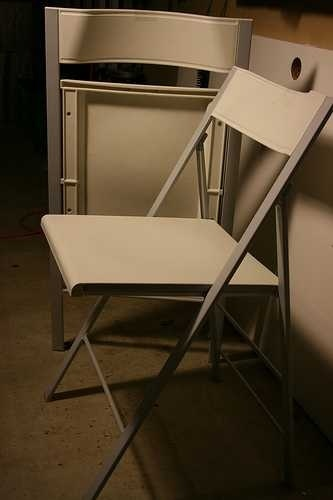obstacle: (42, 7, 331, 499)
